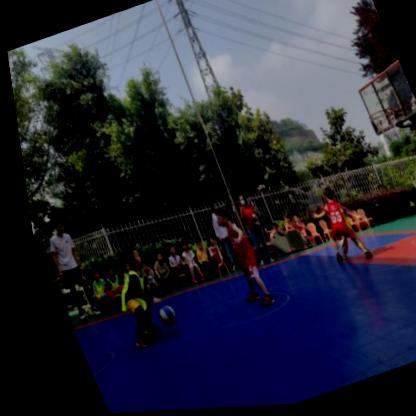basketball: (146, 305, 171, 329)
